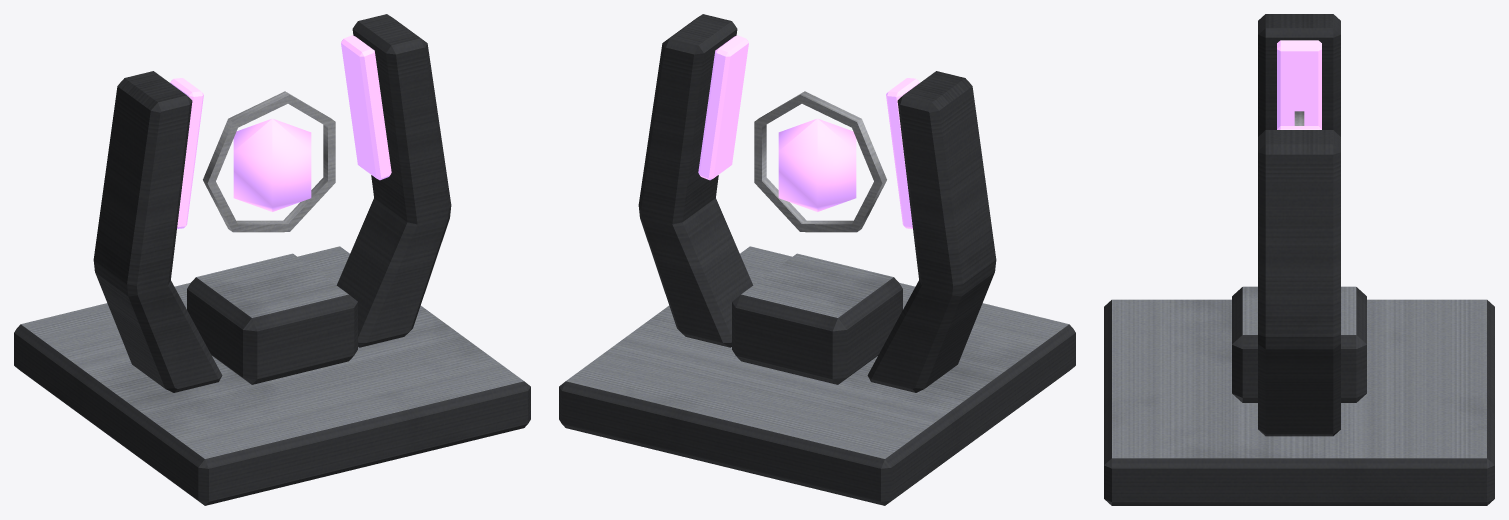
File: R4X_Blink_LOD1.glb
3 renders of one model, left to right at view 1: azimuth 30°, elevation 25°; view 2: azimuth 150°, elevation 25°; view 3: azimuth 270°, elevation 25°, orthographic.
Visible parts, largest first — view 1: R4X_Blink_LOD1; view 2: R4X_Blink_LOD1; view 3: R4X_Blink_LOD1.
Boxes of the visible parts, x1,y1,x2,y2 form: R4X_Blink_LOD1: (14, 14, 530, 505); R4X_Blink_LOD1: (559, 14, 1075, 505); R4X_Blink_LOD1: (1104, 14, 1494, 505).
Bounding box in the file's own units: 0.52 × 0.51 × 0.52.
4 materials, 3 textured.
